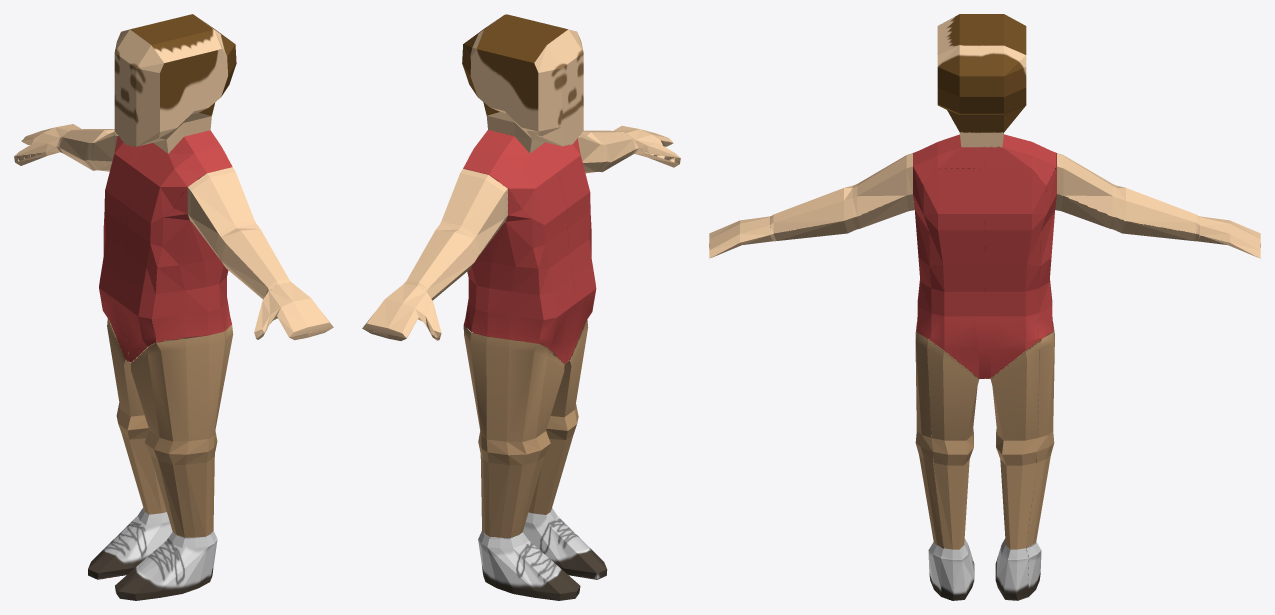
The model's file is niño.FBX.
The picture shows the model from 3 angles, left to right: view 1: azimuth 30°, elevation 25°; view 2: azimuth 150°, elevation 25°; view 3: azimuth 270°, elevation 25°; orthographic projection. The views are drawn at different scales.
Visible parts, largest first — view 1: Box003; view 2: Box003; view 3: Box003.
Part boxes in pixels (bbox=[...]): Box003: bbox=[14, 14, 333, 600]; Box003: bbox=[362, 14, 680, 600]; Box003: bbox=[709, 14, 1260, 600].
Size of the model in its own units: 10.03 by 42.9 by 38.44.
